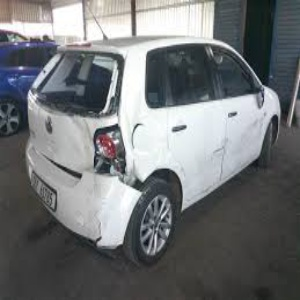bumper: (65, 171, 140, 251)
head_lights: (89, 120, 131, 176)
